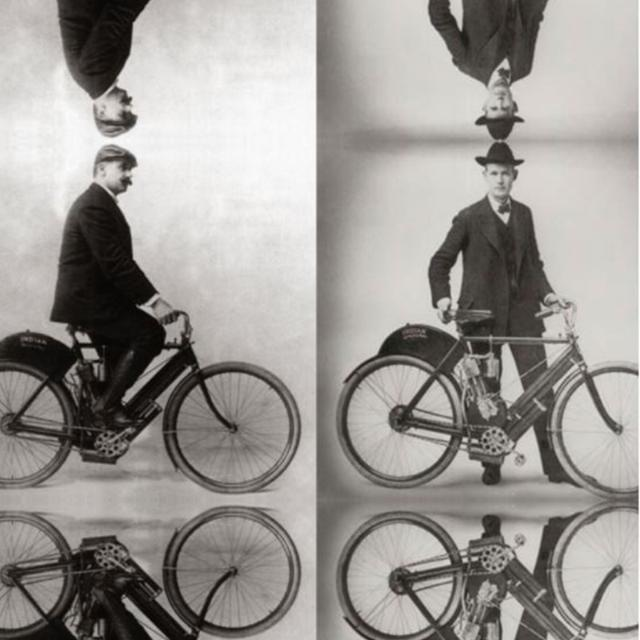obstacle: (336, 292, 640, 490), (336, 508, 640, 640)
